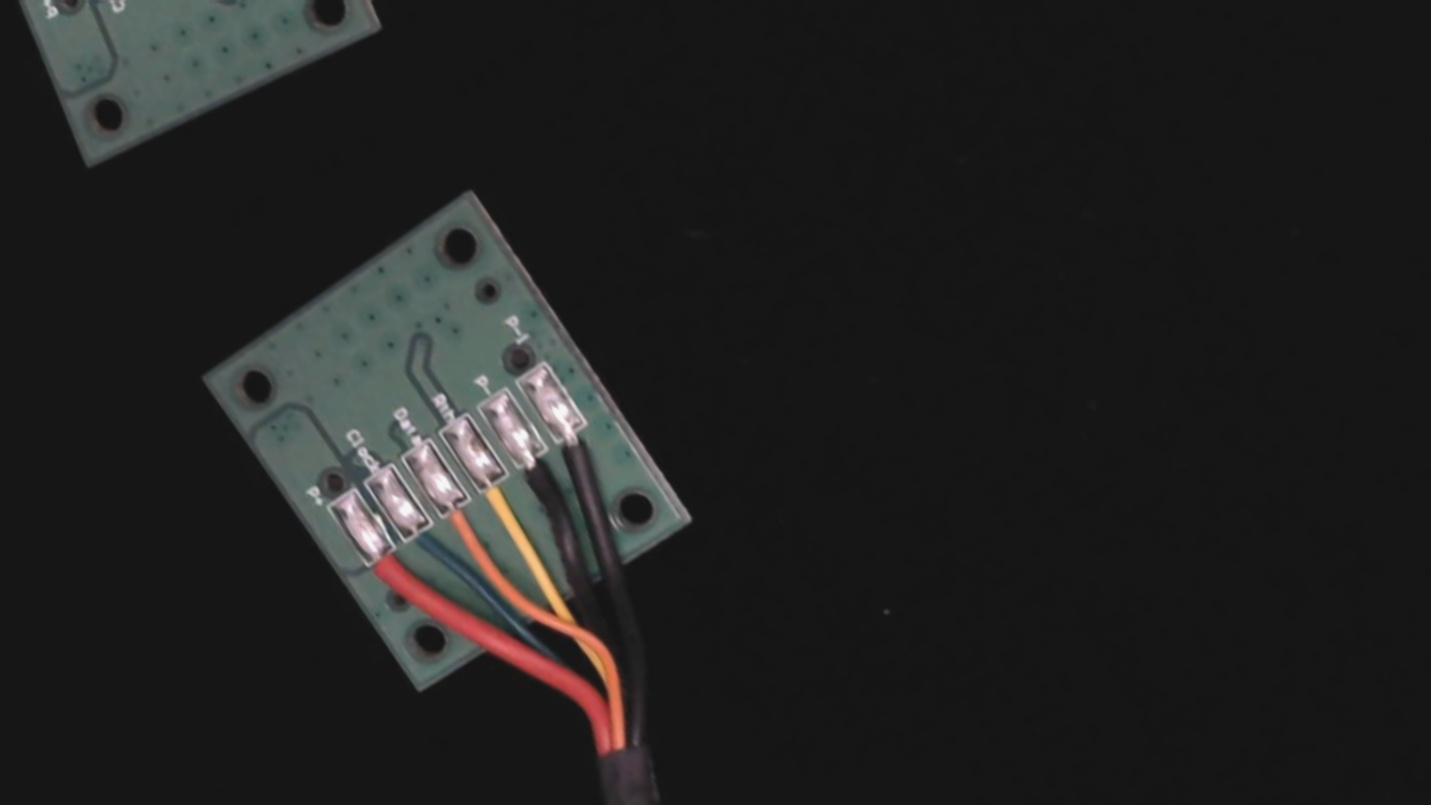Black: (501, 435, 576, 518)
Black1: (541, 410, 618, 494)
Green: (388, 506, 460, 578)
Orange: (425, 485, 496, 559)
Red: (348, 530, 419, 600)
Yellow: (463, 458, 535, 536)
